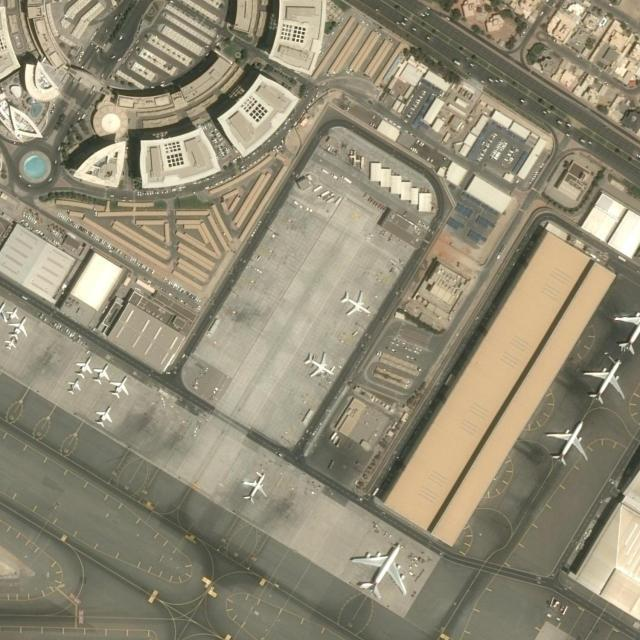Aircraft: (348, 542, 410, 598), (581, 358, 629, 403), (544, 422, 590, 467), (611, 305, 639, 353), (239, 472, 271, 502), (338, 289, 372, 316), (305, 351, 337, 378), (109, 375, 131, 399), (9, 315, 31, 337), (90, 363, 110, 385), (94, 405, 114, 427), (72, 355, 92, 376), (3, 336, 19, 352), (5, 306, 23, 320), (66, 377, 80, 395), (0, 300, 7, 321)
